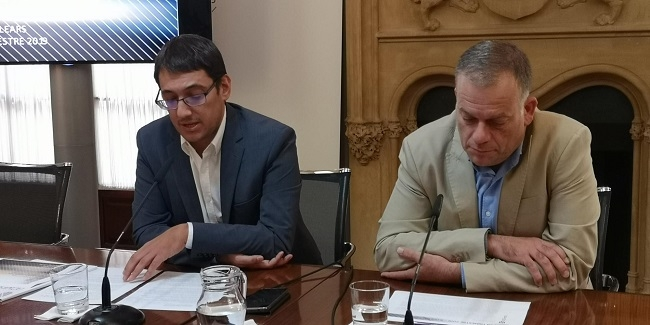person: (390, 43, 604, 268), (117, 33, 304, 237)
